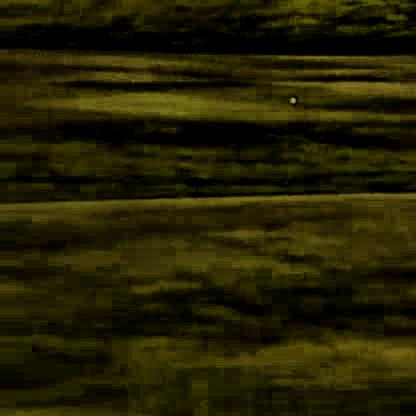golfball: (285, 93, 292, 103)
